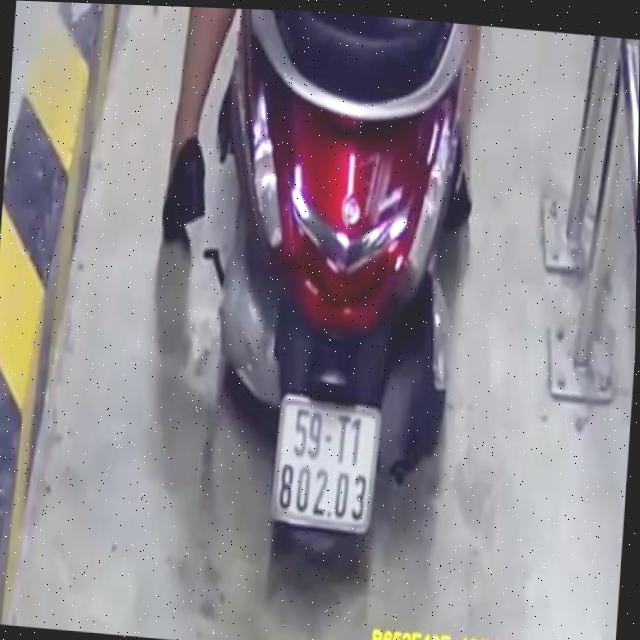motorcycle: (180, 7, 491, 602)
plate: (260, 383, 391, 535)
